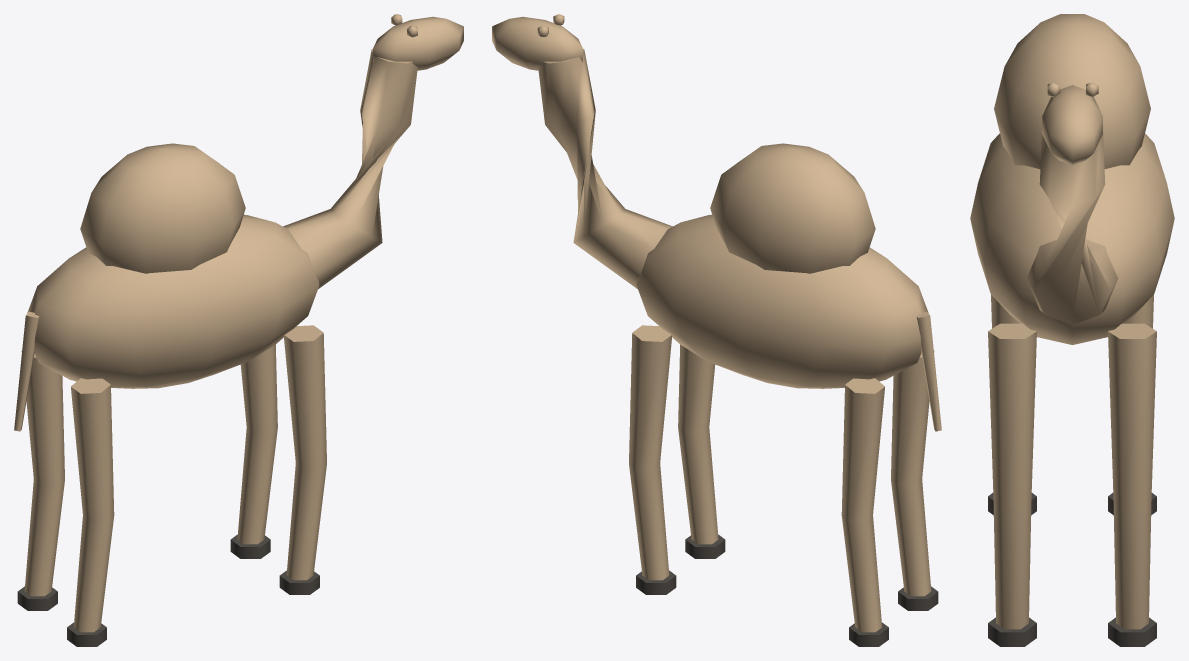
File: SM_Camel.fbx
The picture shows the model from 3 angles, left to right: view 1: azimuth 30°, elevation 25°; view 2: azimuth 150°, elevation 25°; view 3: azimuth 270°, elevation 25°; orthographic projection. The views are drawn at different scales.
Parts seen in each view (by area): view 1: SM_Camel; view 2: SM_Camel; view 3: SM_Camel.
Part boxes in pixels (left/top/right/bottom): SM_Camel: left=14, top=14, right=463, bottom=646; SM_Camel: left=492, top=14, right=941, bottom=646; SM_Camel: left=970, top=14, right=1174, bottom=646.
Bounding box in the file's own units: 232 × 256 × 75.
